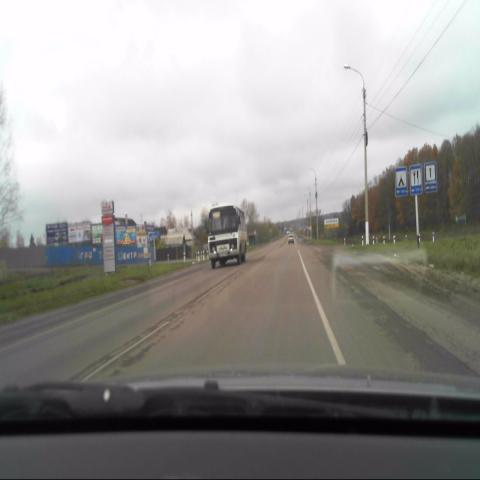7_4: (424, 162, 438, 193)
7_7: (411, 164, 422, 193)
